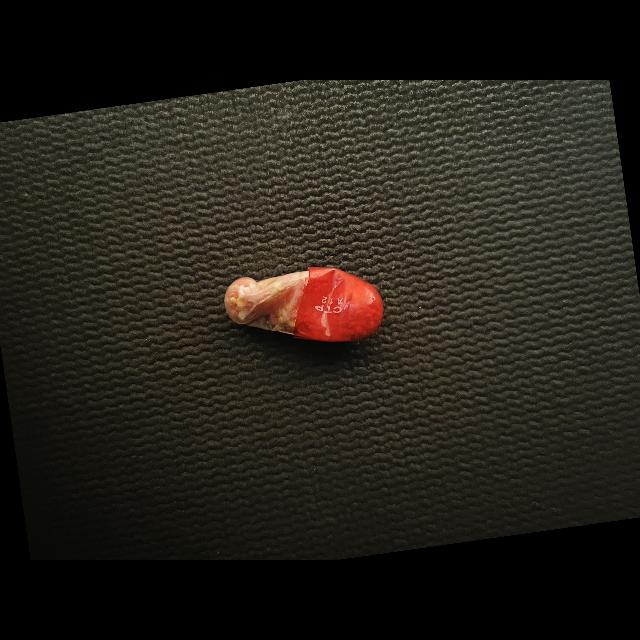Defective Capsule: (224, 267, 383, 342)
